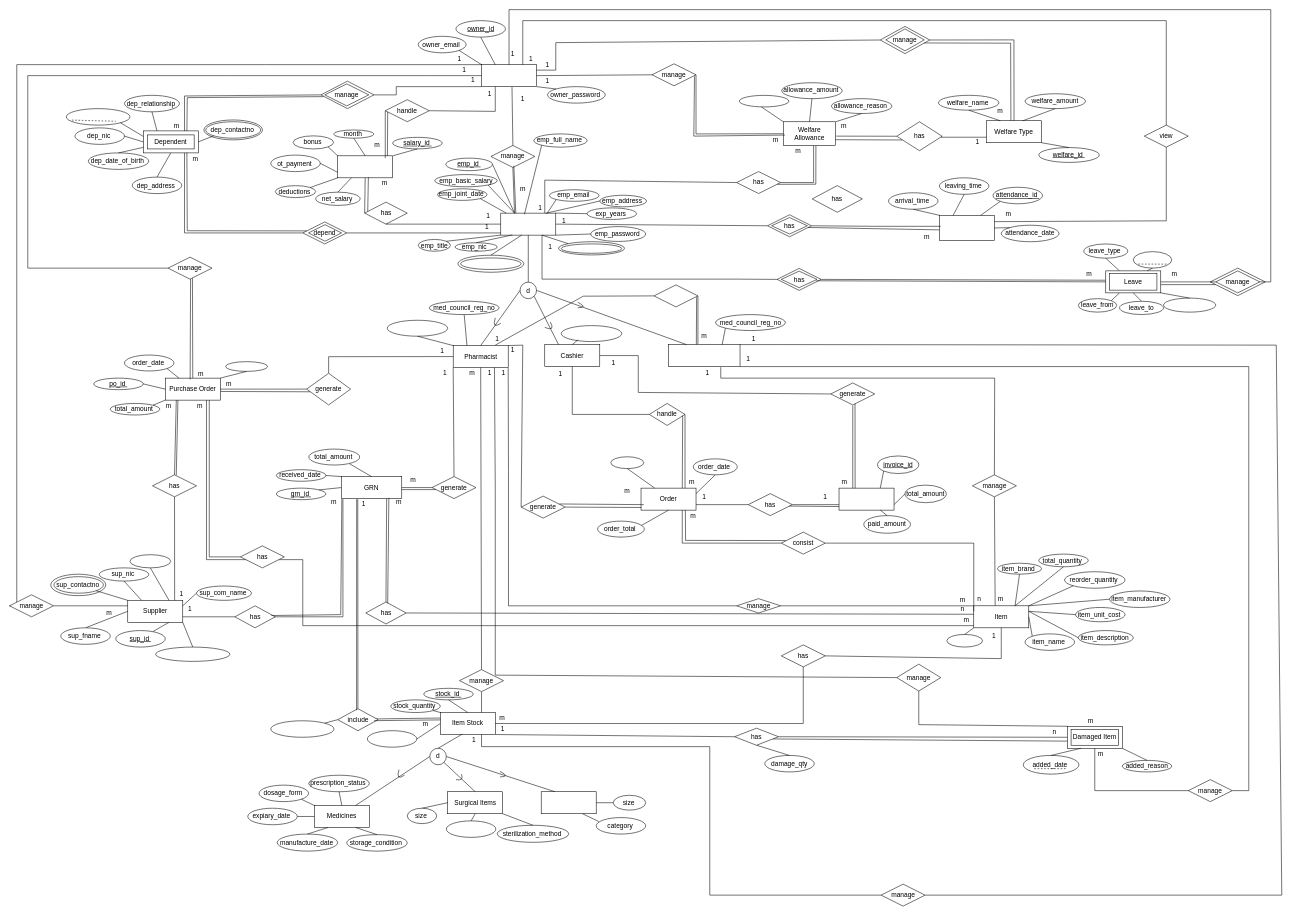
Some shapes in this 1293 by 916 pixel diagram are drawn without their labels. The shapes that lost their labels are listed below. From the top down, each one's centre as x and y in pixels, then its label:
At [509,75]: "Owner".
At [98,116]: "dep_full_name".
At [764,101]: "allowance_id".
At [365,166]: "Salary".
At [528,224]: "Employee".
At [966,228]: "Attendence".
At [490,263]: "emp_qualification".
At [591,248]: "emp_contactno".
At [1152,259]: "no_of_days".
At [675,295]: "supervise".
At [1189,305]: "leave_reason".
At [417,328]: "license_no".
At [591,333]: "cashHandleLimit".
At [246,366]: "po_status".
At [704,355]: "Assistant Pharmacist".
At [627,462]: "order_id".
At [866,499]: "Invoice".
At [150,561]: "sup_email".
At [192,654]: "sup_business_address".
At [964,640]: "item_id".
At [302,728]: "purchase_quantity".
At [392,738]: "stock_location".
At [568,802]: "Grocery Items".
At [471,828]: "material".
